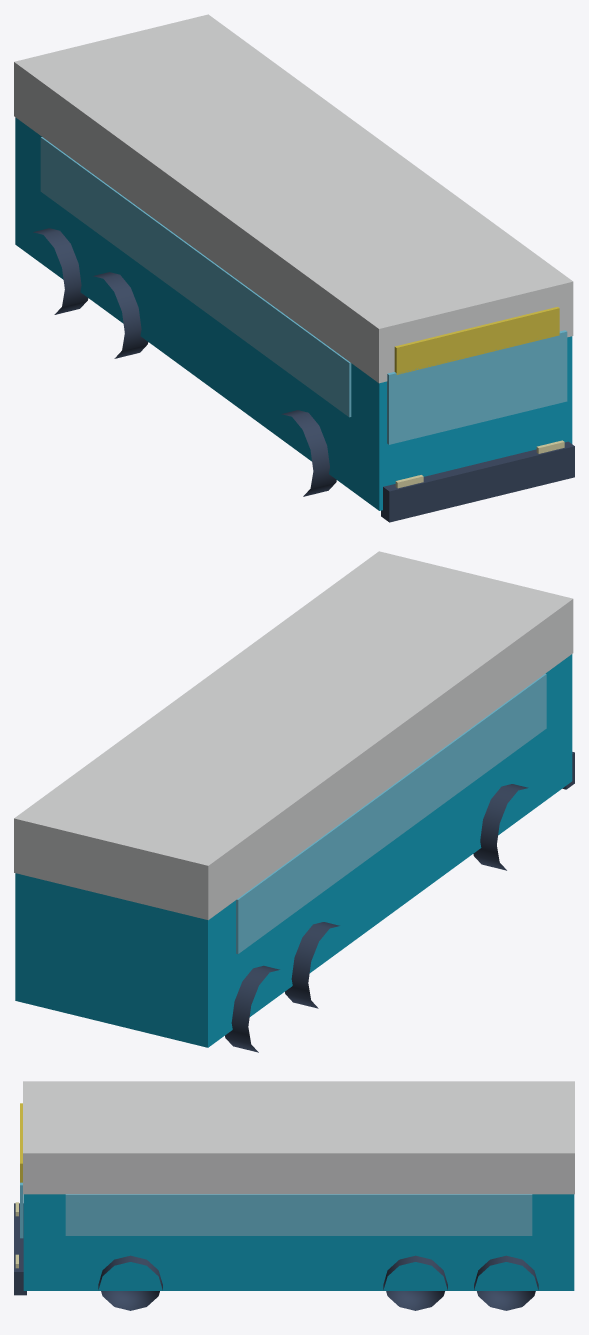
The model's file is commuter-bus.glb.
3 renders of one model, top to bottom at view 1: azimuth 30°, elevation 25°; view 2: azimuth 150°, elevation 25°; view 3: azimuth 270°, elevation 25°, orthographic. The views are drawn at different scales.
Parts seen in each view (by area): view 1: Root; view 2: Root; view 3: Root.
Boxes of the visible parts, x1=… form: Root: x1=14, y1=14, x2=574, y2=522; Root: x1=14, y1=551, x2=574, y2=1052; Root: x1=14, y1=1081, x2=574, y2=1310.
Bounding box in the file's own units: 3.05 × 2.75 × 8.66.
